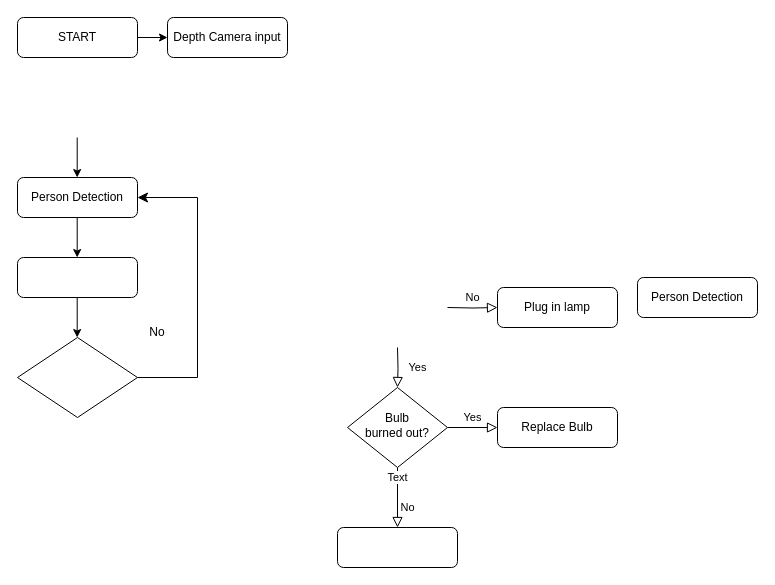
Some shapes in this 775 by 585 pixel diagram are drawn without their labels. Each missing label, with the box of its shape:
Extract Landmark and Draw rectangle: (16, 256, 138, 298)
Is Person Stand Alone?: (16, 336, 138, 418)
Repair Lamp: (336, 526, 458, 568)
